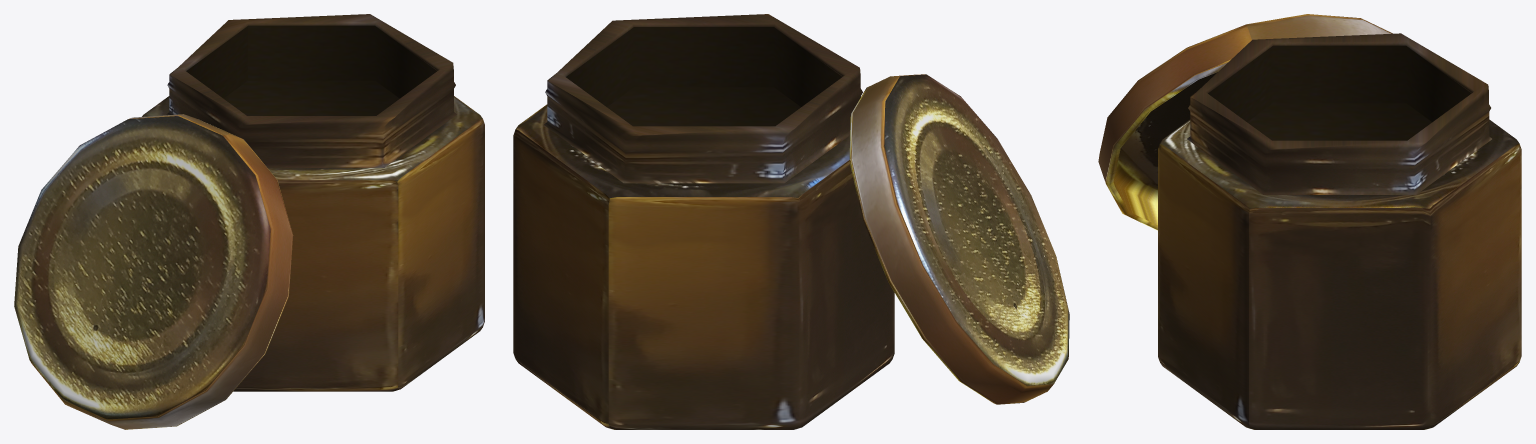
The model's file is inkwell.fbx.
The picture shows the model from 3 angles, left to right: view 1: azimuth 30°, elevation 25°; view 2: azimuth 150°, elevation 25°; view 3: azimuth 270°, elevation 25°; orthographic projection. The views are drawn at different scales.
Parts seen in each view (by area): view 1: pCylinder3, pCylinder2; view 2: pCylinder3, pCylinder2; view 3: pCylinder3, pCylinder2.
Boxes of the visible parts, x1=… form: pCylinder3: x1=142, y1=14, x2=484, y2=391; pCylinder2: x1=14, y1=114, x2=293, y2=429; pCylinder3: x1=513, y1=14, x2=894, y2=429; pCylinder2: x1=849, y1=74, x2=1069, y2=404; pCylinder3: x1=1158, y1=33, x2=1521, y2=429; pCylinder2: x1=1098, y1=14, x2=1392, y2=230.
Size of the model in its own units: 2.76 by 1.66 by 2.3.
2 materials, 2 textured.
